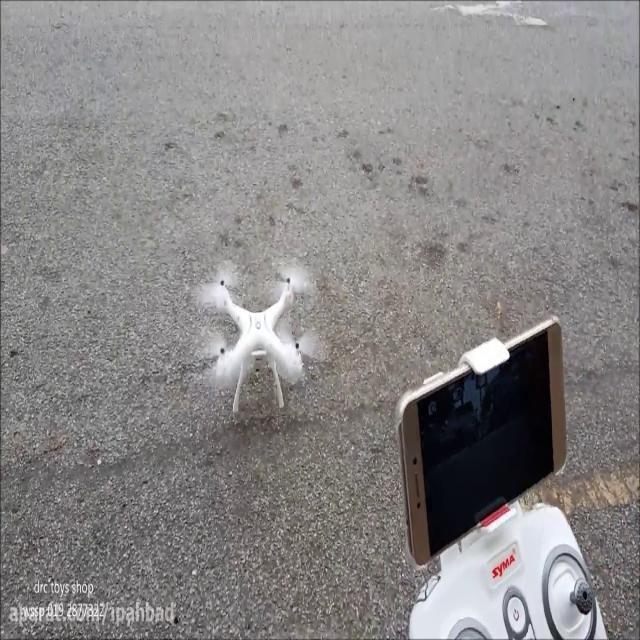drone: (192, 257, 332, 418)
